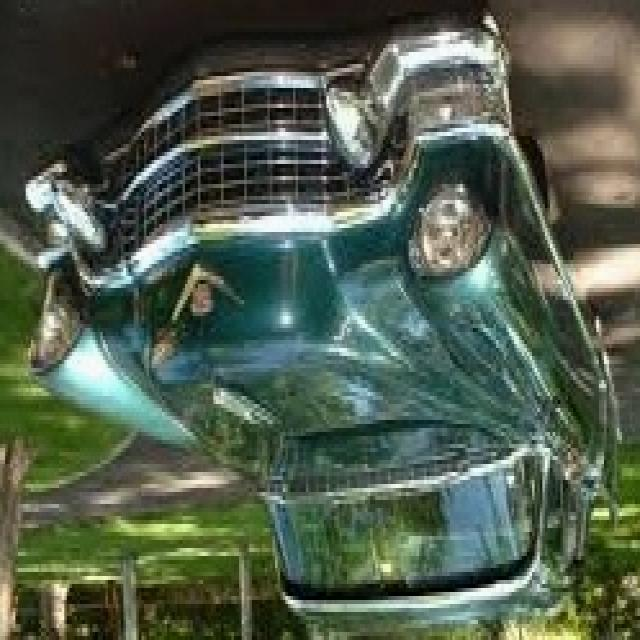green: (22, 2, 624, 632)
